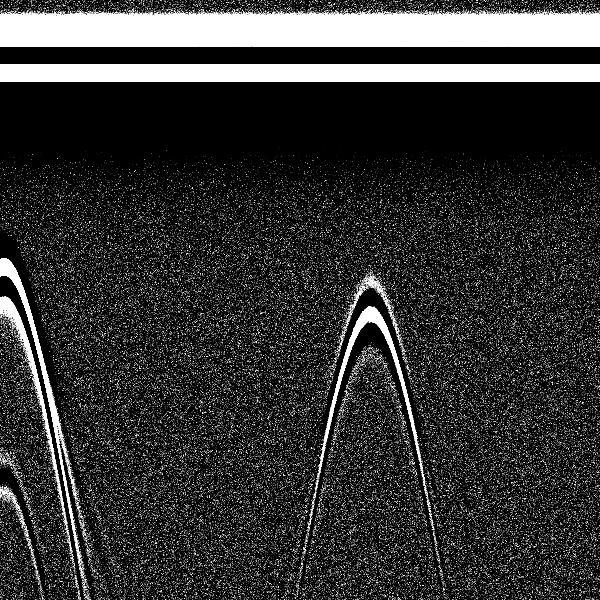pipe: (326, 6, 414, 378), (1, 4, 54, 358)
